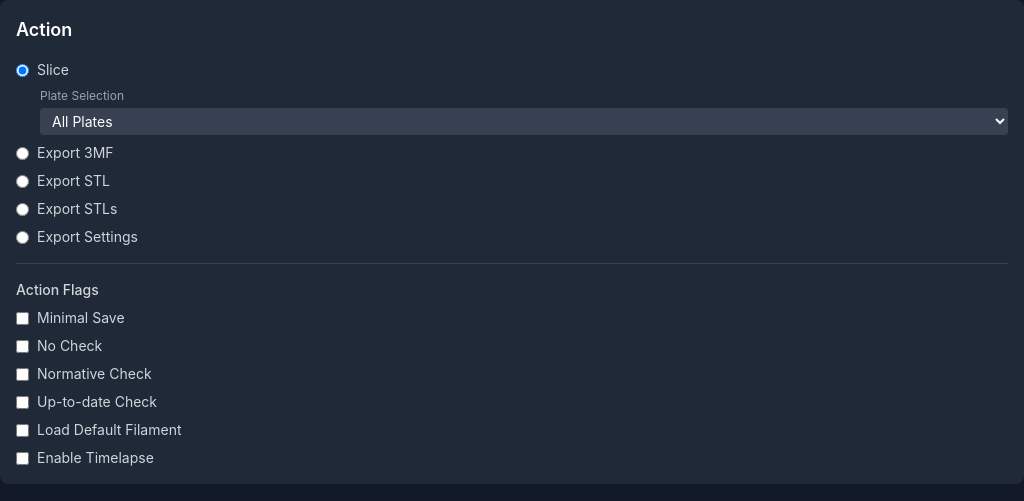
Test: ActionSelector › Conditional UI: Plate Selector (Requirement 5.2) › hides plate selector when Export STLs is selected
This screenshot has width=1024, height=501.
# Select Export STLs
Click the radio button labelled "Export STLs" at (22, 209), box [16, 202, 29, 216]
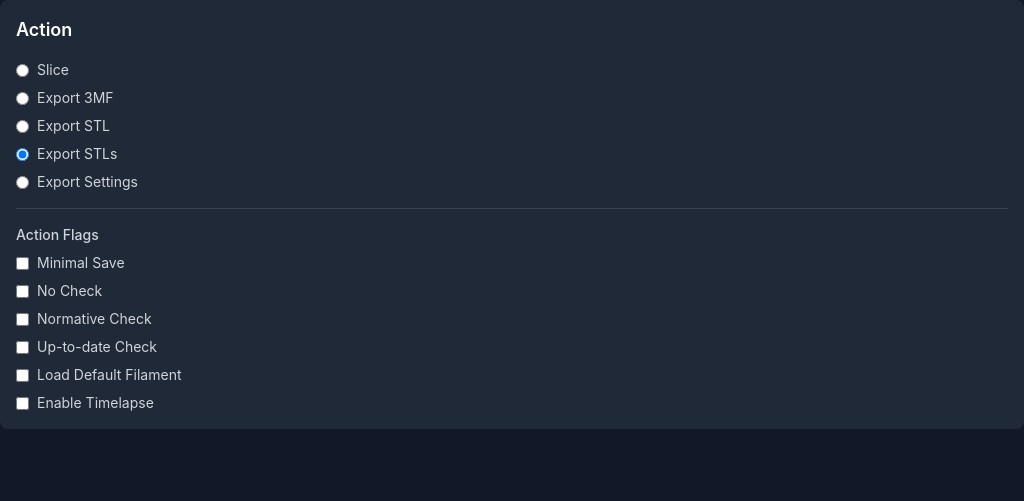
expect the text "Plate Selection" is gone: met
